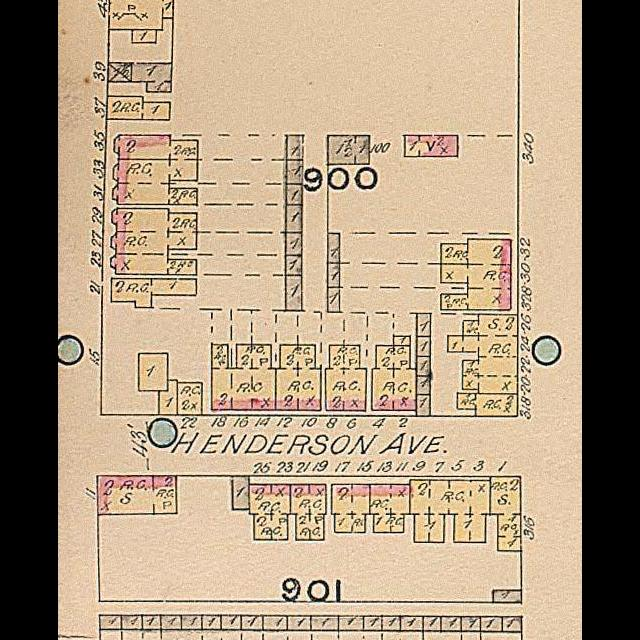building-footprints: (113, 134, 198, 204), (111, 208, 197, 274), (448, 313, 518, 393), (441, 238, 511, 310), (410, 479, 490, 542), (212, 344, 276, 410), (332, 484, 410, 532), (97, 475, 177, 513), (276, 345, 321, 410), (372, 345, 417, 410), (326, 345, 366, 411), (112, 278, 197, 307), (249, 484, 291, 539), (490, 476, 521, 550), (291, 484, 326, 539), (109, 0, 173, 29), (107, 96, 170, 120), (457, 393, 518, 416), (131, 62, 172, 92), (328, 135, 369, 164), (404, 135, 458, 156), (139, 353, 168, 390), (177, 382, 202, 414), (159, 379, 177, 414), (232, 475, 250, 509), (285, 275, 302, 310), (286, 204, 302, 232), (311, 615, 339, 631), (109, 62, 132, 81), (286, 159, 303, 184), (287, 135, 303, 160), (339, 615, 364, 631), (285, 232, 301, 255), (287, 615, 311, 630), (263, 615, 287, 630), (286, 183, 302, 205), (493, 590, 522, 602), (400, 615, 423, 630), (285, 255, 302, 275), (132, 29, 156, 43), (328, 233, 339, 263), (241, 615, 263, 630), (417, 313, 431, 336), (502, 616, 522, 632), (363, 615, 383, 631), (221, 614, 241, 630), (481, 616, 502, 631), (460, 616, 481, 631), (441, 616, 462, 631), (416, 394, 430, 416), (382, 615, 401, 631), (202, 614, 221, 630), (328, 262, 340, 287), (328, 287, 340, 312), (181, 615, 202, 629), (161, 615, 182, 629), (121, 615, 142, 629), (100, 615, 122, 628), (417, 336, 431, 356), (416, 355, 430, 375), (423, 616, 441, 631), (416, 375, 430, 394), (142, 615, 161, 629), (394, 335, 410, 345)
